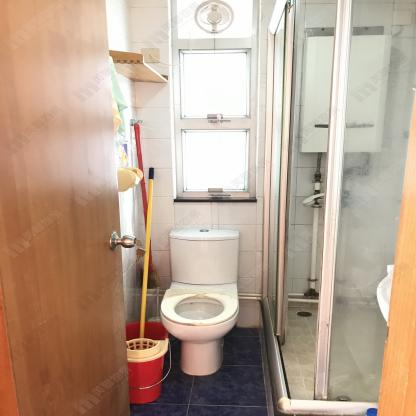Exhaust Fan: (189, 0, 236, 35)
Toilet: (159, 229, 242, 375)
Water Cubicle: (259, 0, 416, 416)
Water Heater: (299, 35, 393, 153)
